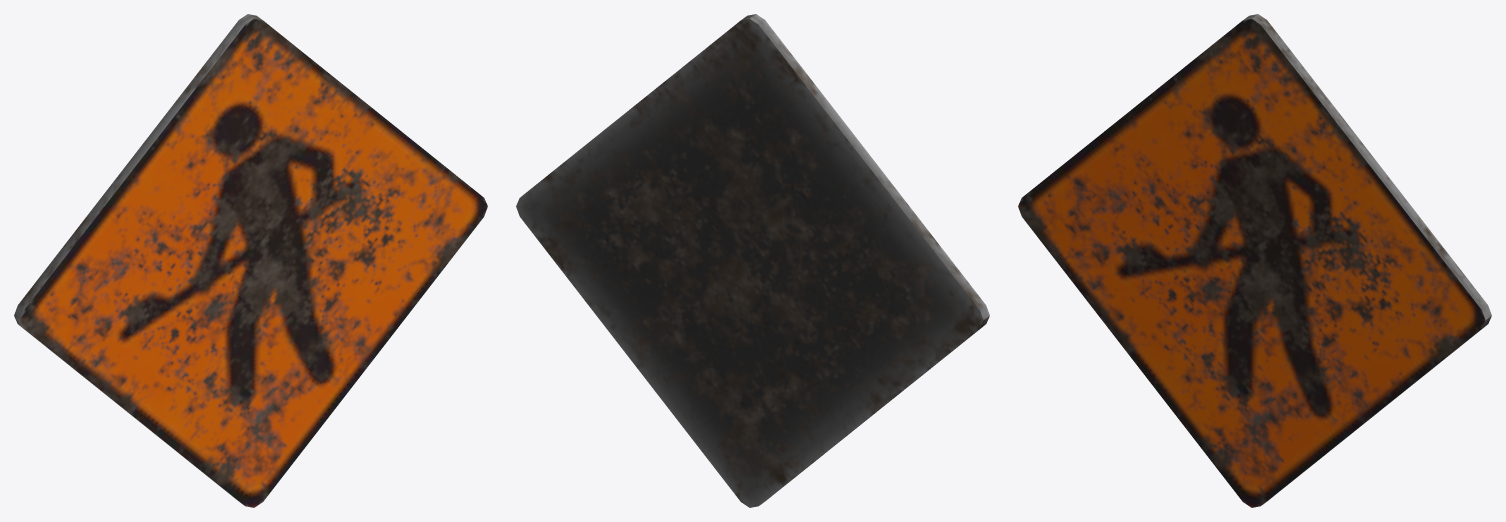
The model's file is Construction sign.fbx.
The picture shows the model from 3 angles, left to right: view 1: azimuth 30°, elevation 25°; view 2: azimuth 150°, elevation 25°; view 3: azimuth 330°, elevation 25°; orthographic projection.
Visible parts, largest first — view 1: Cube.001; view 2: Cube.001; view 3: Cube.001.
Part boxes in pixels (left/top/right/bottom): Cube.001: left=14, top=14, right=487, bottom=507; Cube.001: left=516, top=14, right=989, bottom=507; Cube.001: left=1018, top=14, right=1491, bottom=507.
Bounding box in the file's own units: 54.78 × 54.78 × 1.31.
